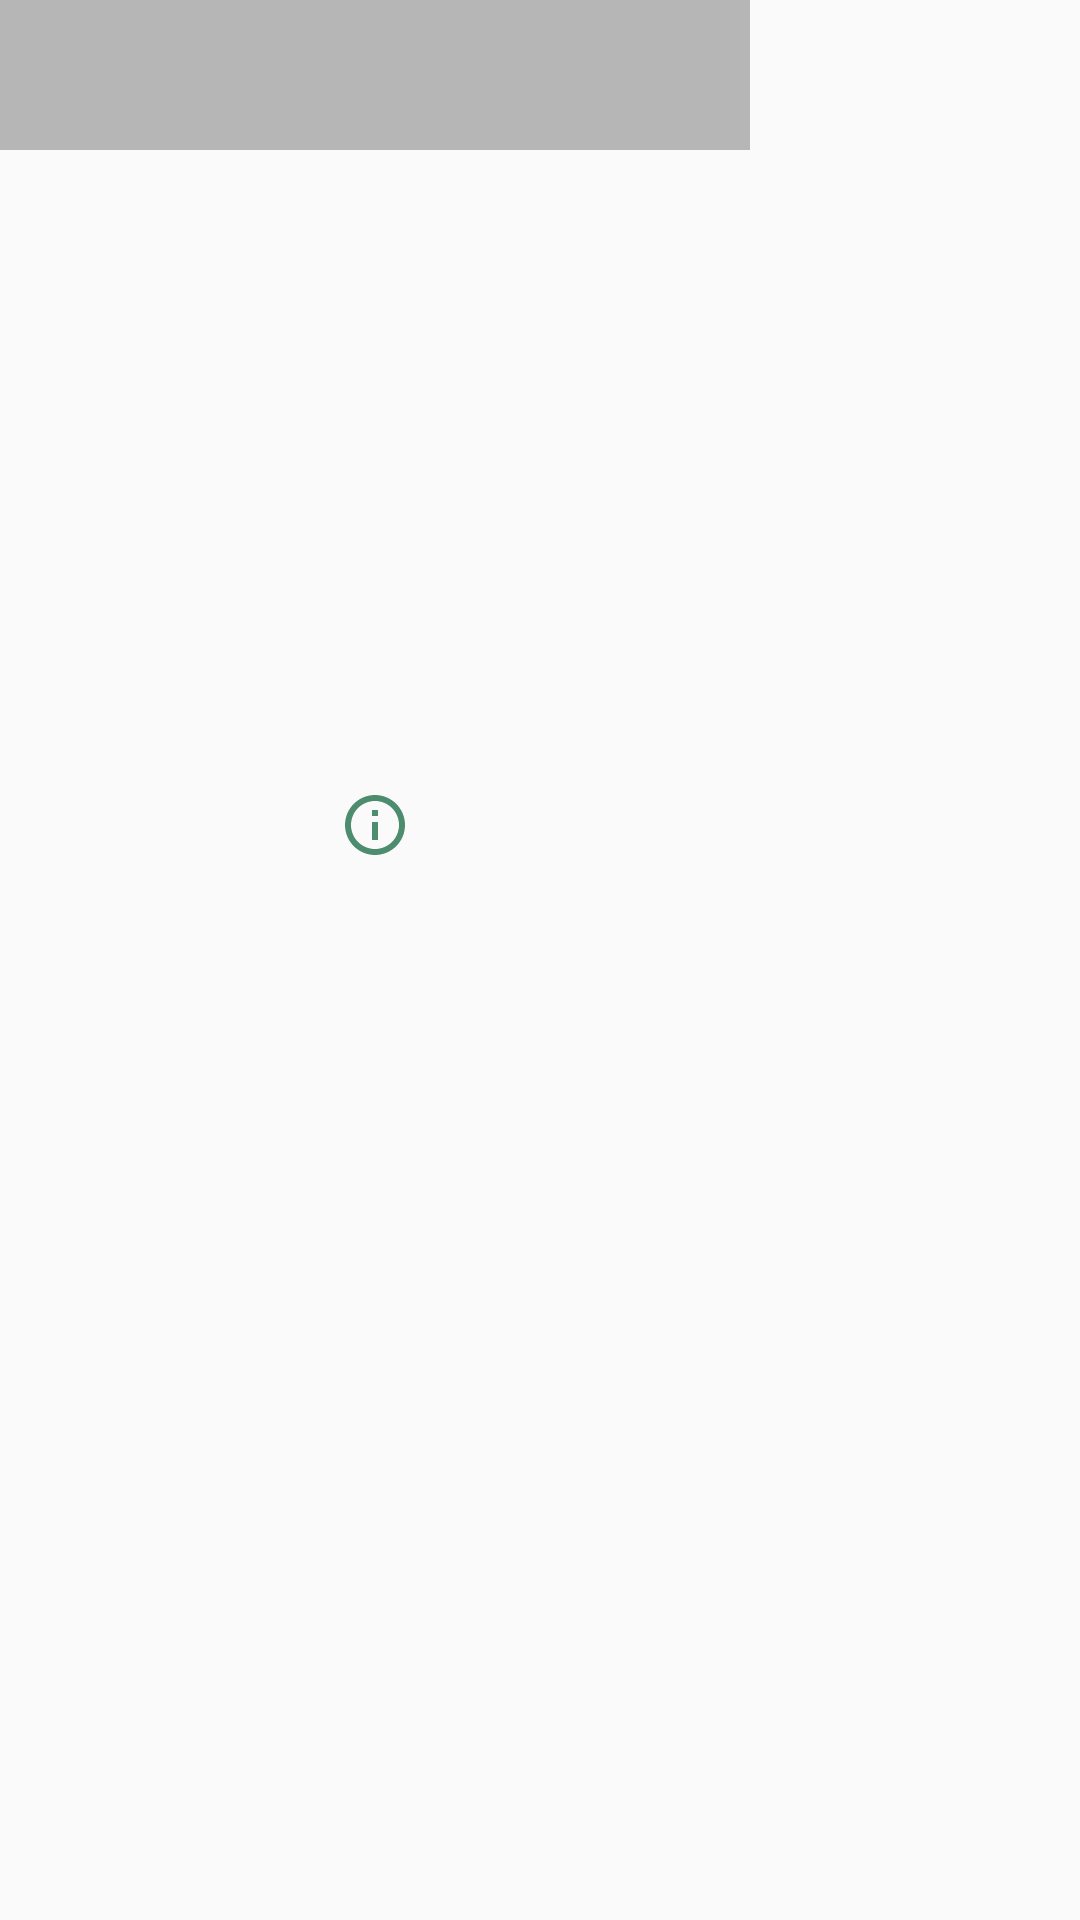

Screen size 1080px×1920px. Icon name, then its center in pixels as (x,y):
info: (375,825)
